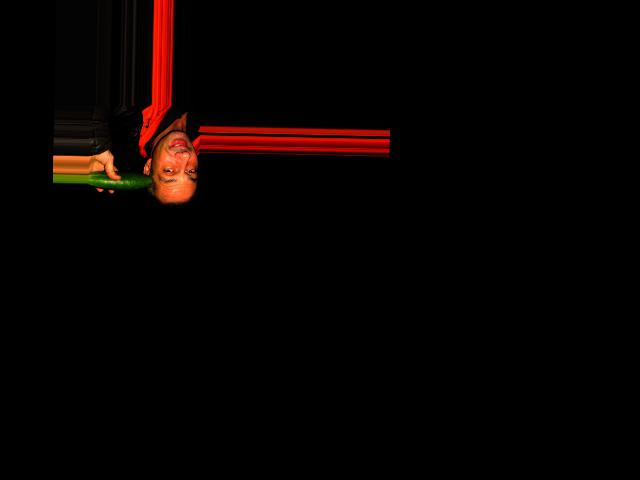cucumber: (88, 171, 154, 191)
